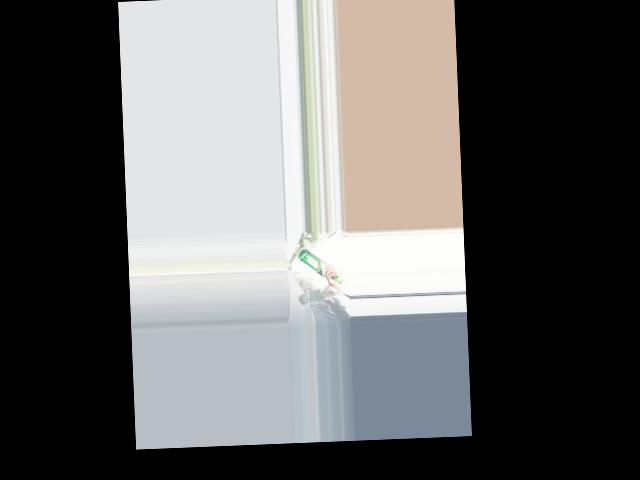beer: (297, 247, 341, 286)
